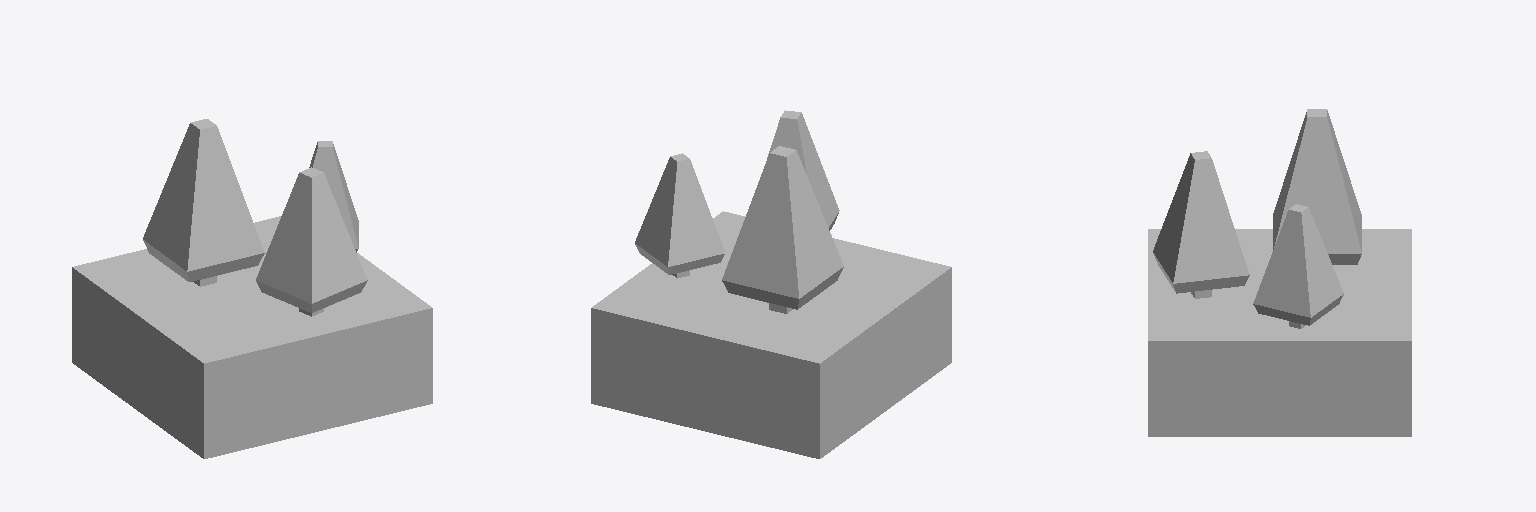
File: tile_060.obj
3 renders of one model, left to right at view 1: azimuth 30°, elevation 25°; view 2: azimuth 150°, elevation 25°; view 3: azimuth 270°, elevation 25°, orthographic.
Visible parts, largest first — view 1: tile_060, Component#2; view 2: tile_060, Component#2; view 3: tile_060, Component#2.
Boxes of the visible parts, box(x1,y1,x2,y2) form: tile_060: box(72, 216, 432, 458); Component#2: box(143, 119, 367, 316); tile_060: box(591, 211, 951, 458); Component#2: box(635, 110, 843, 313); tile_060: box(1148, 229, 1411, 436); Component#2: box(1153, 109, 1361, 328).
Bounding box in the file's own units: 1.03 × 1.06 × 1.